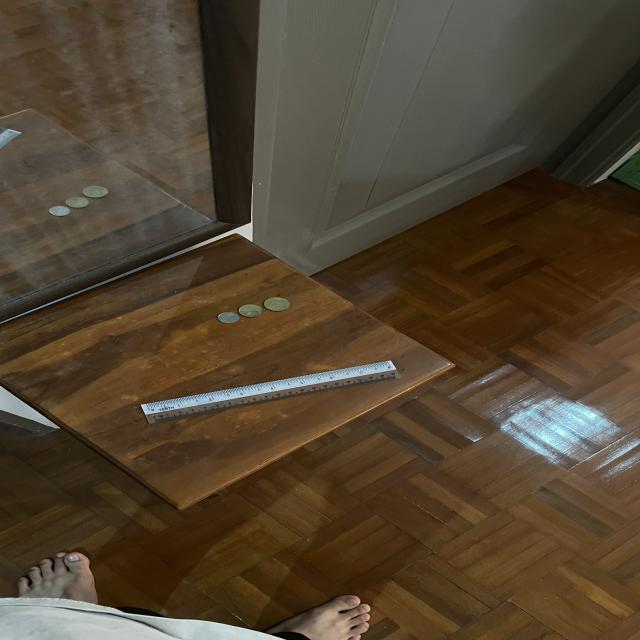ruler: (141, 361, 402, 423)
